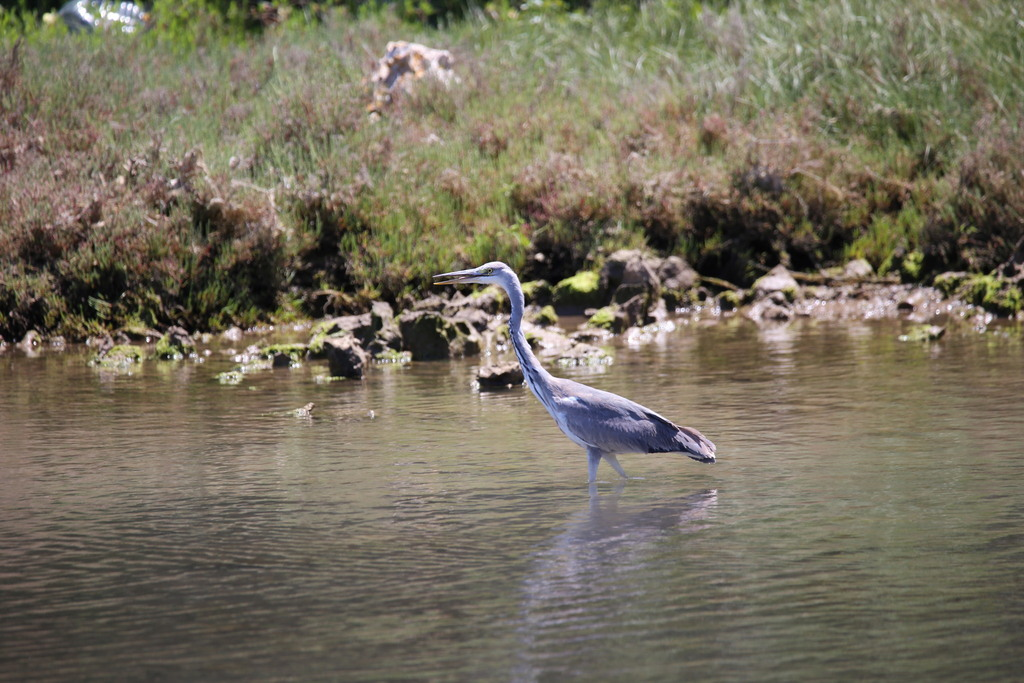heron: (428, 259, 723, 494)
